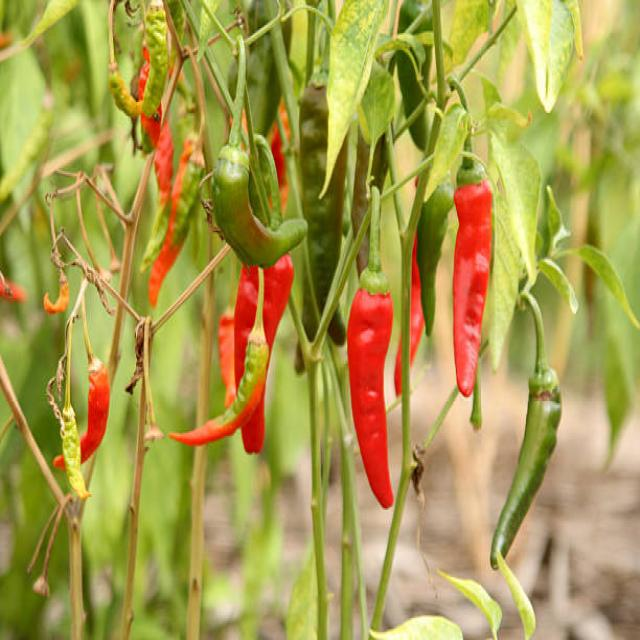Half-Ripe: (169, 268, 269, 446), (149, 137, 205, 305)
Ripe: (348, 289, 394, 508), (452, 178, 492, 397), (80, 296, 110, 462), (262, 255, 294, 353), (235, 266, 259, 385), (411, 238, 425, 363), (241, 388, 264, 453), (394, 341, 401, 395)
Unripe: (490, 291, 561, 567), (212, 144, 308, 267), (300, 82, 346, 312), (416, 178, 454, 335), (171, 133, 174, 177)
